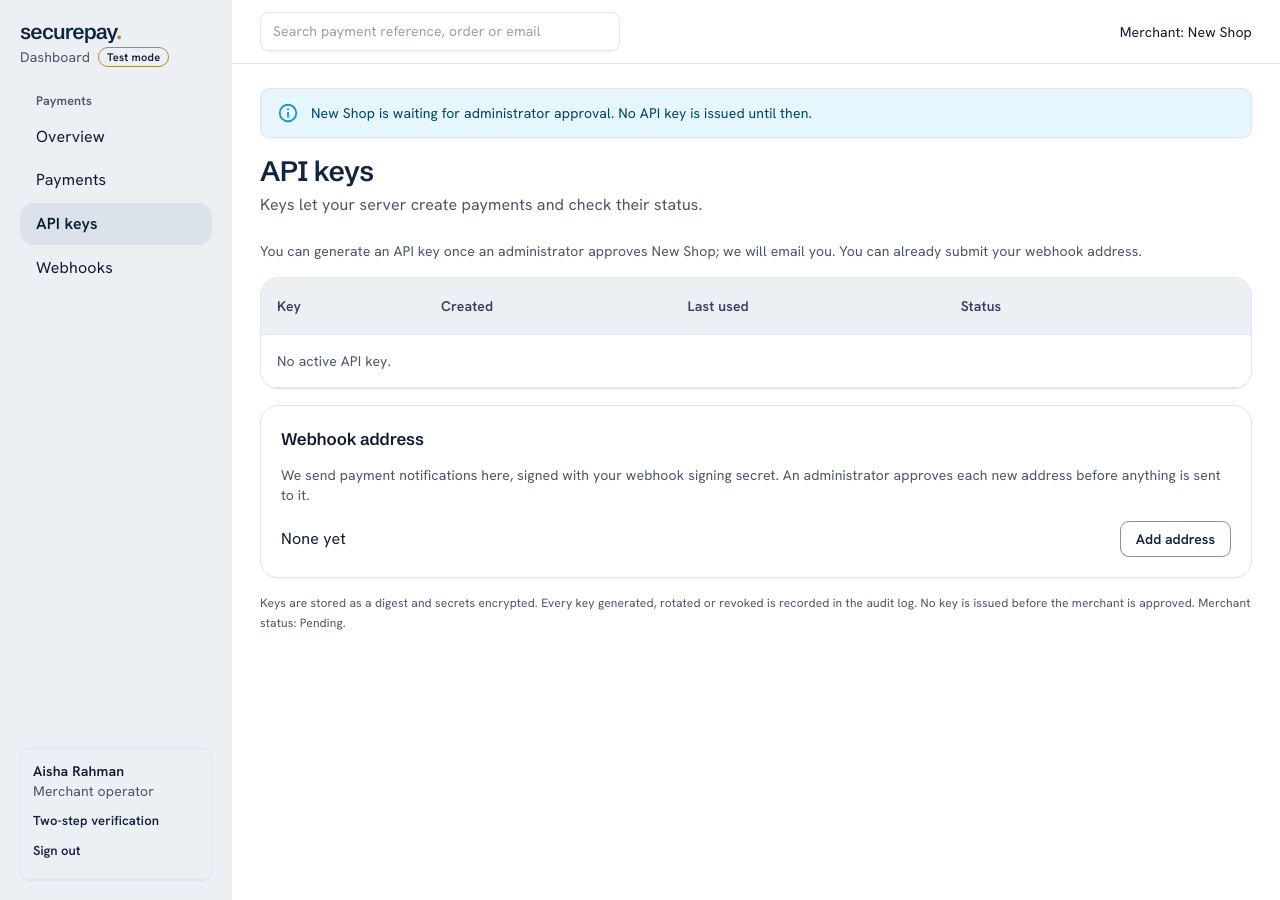
Test: account pages › tells a pending operator that the key comes after approval
The width and height of the screenshot is (1280, 900).
Check: the text "You can generate an API key once an administrator approves" is shown, box [260,242,652,260]
Click the button "Add address" at (1175, 539), box [1120,521,1231,557]
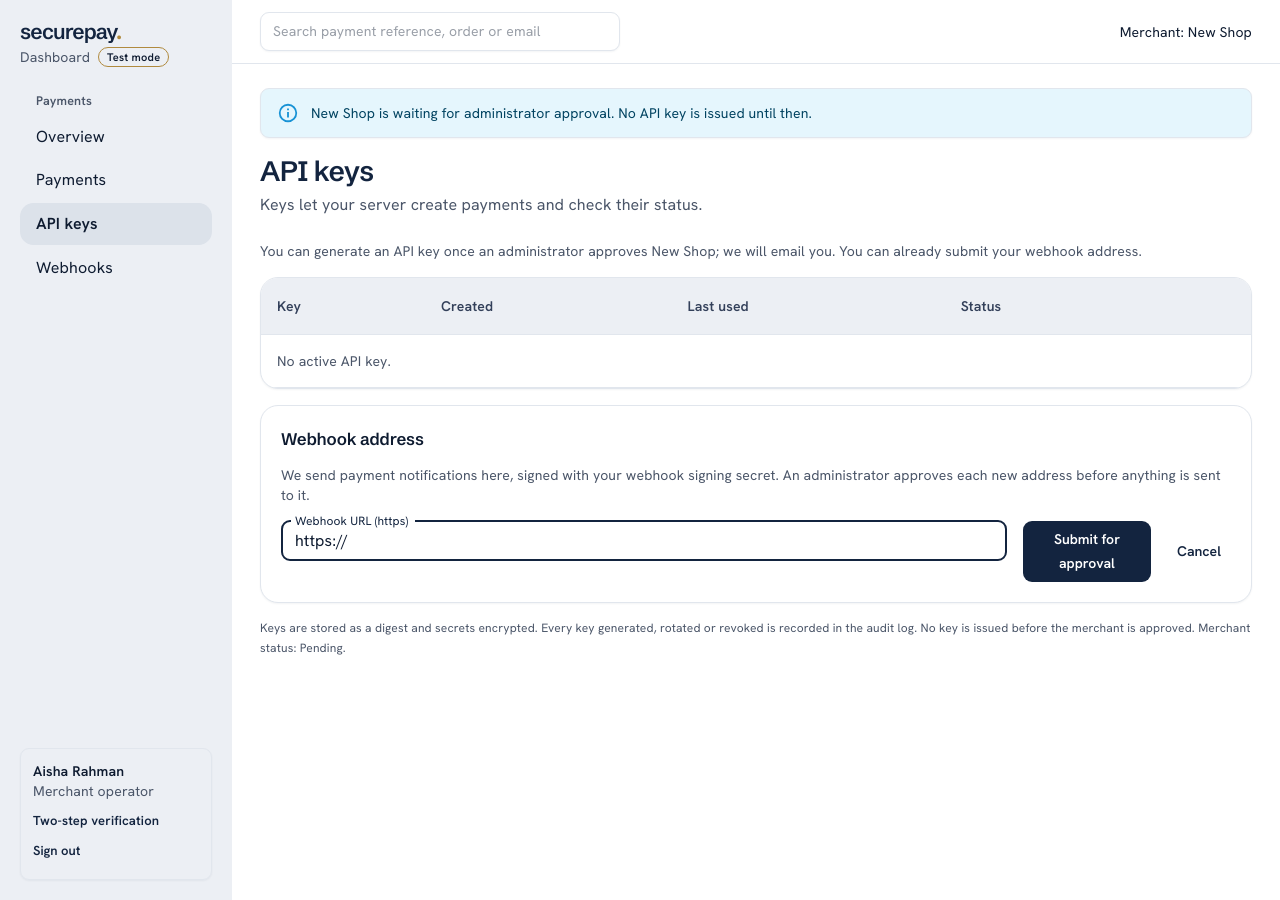
Replace the text in the field labelled "Webhook URL (https)" with "https://newshop.sg/hooks" at (644, 541), box [281,521,1007,561]
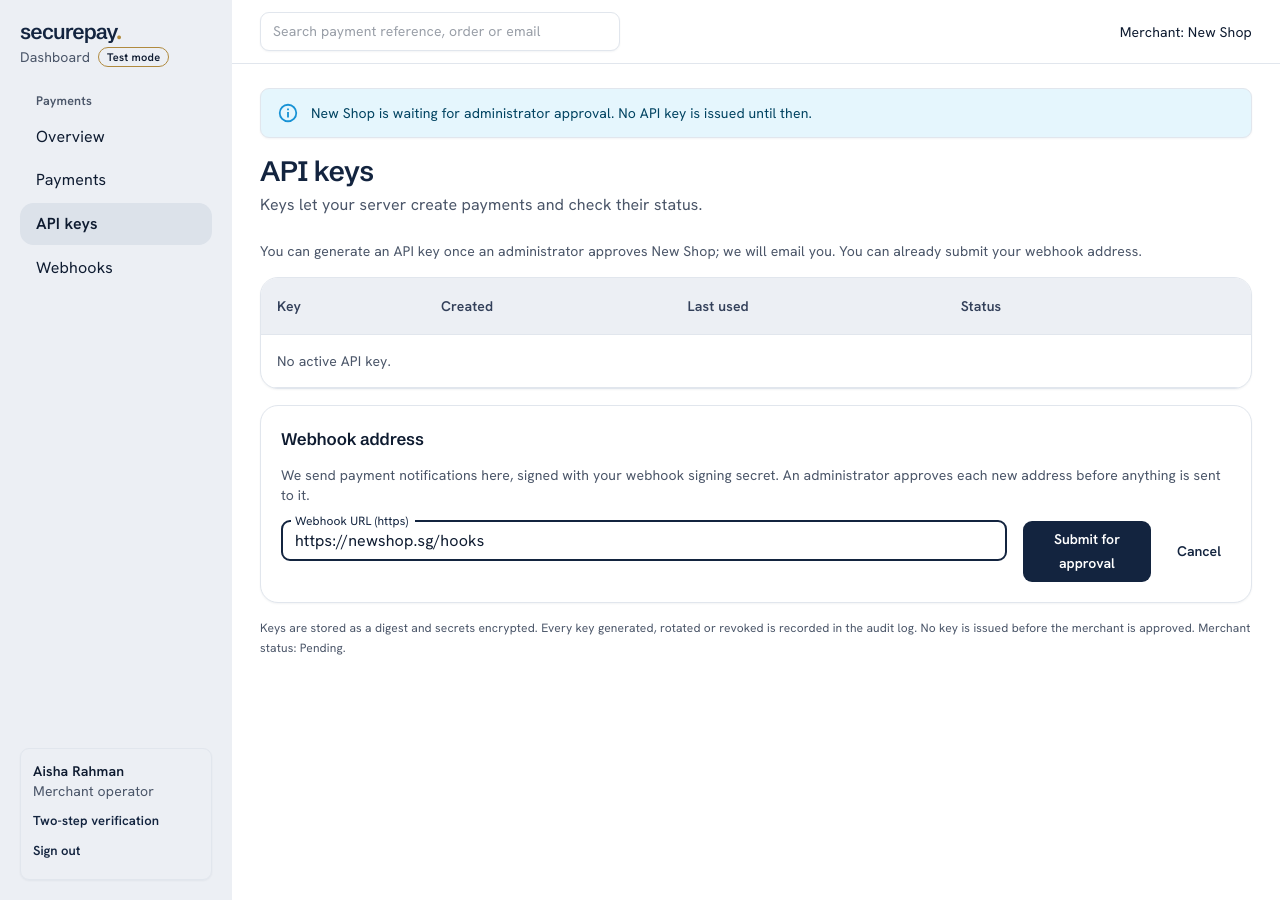
Click the button "Submit for approval" at (1087, 551), box [1023,521,1151,582]
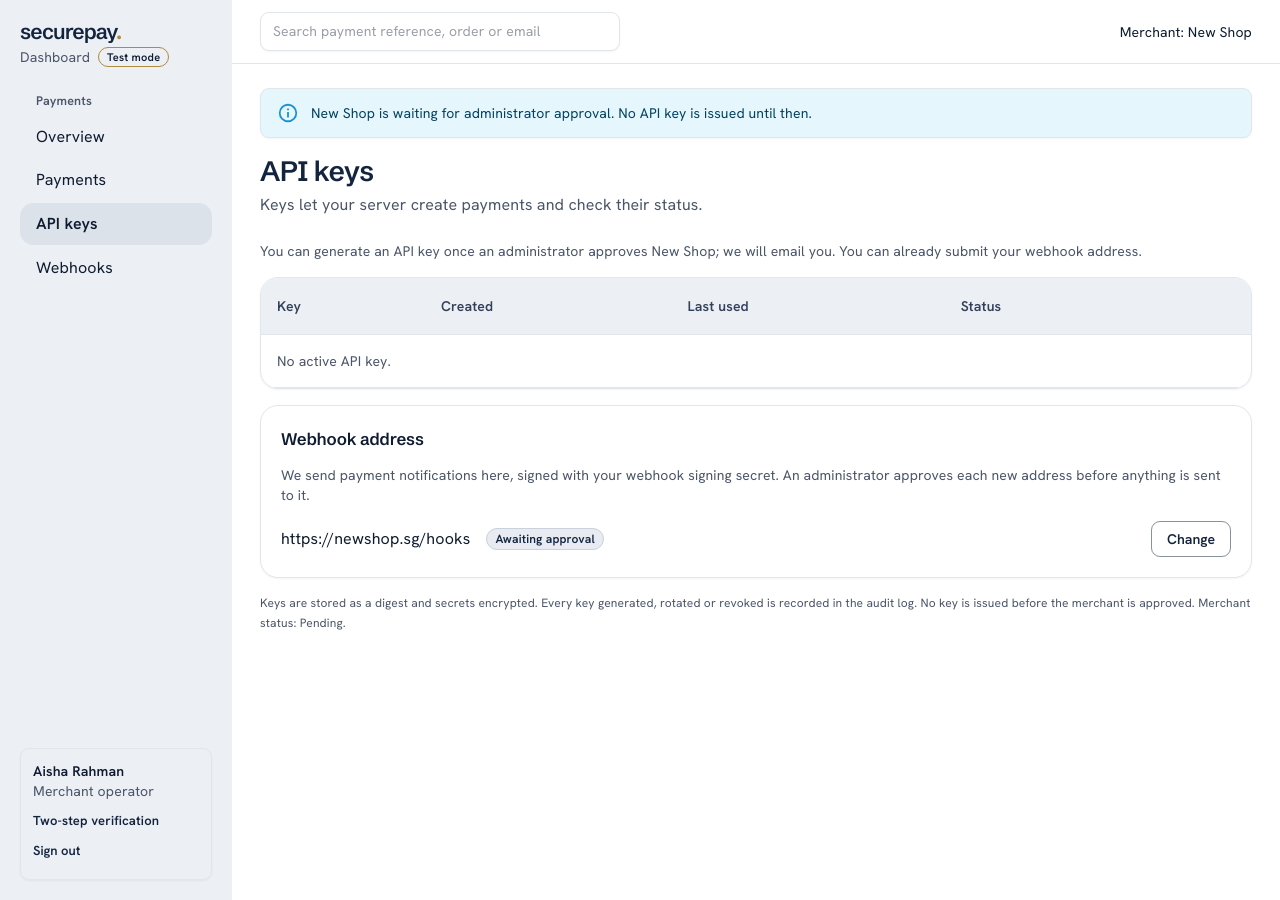
Check: the text "Awaiting approval" is shown, box [487,530,603,548]
